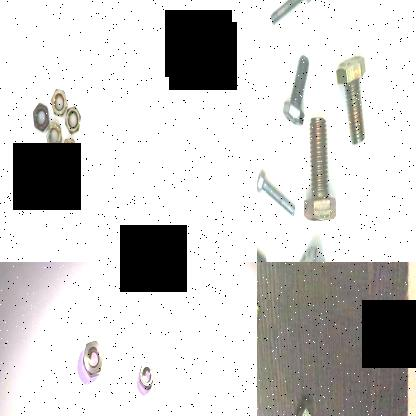Bolts: (300, 112, 342, 228), (334, 46, 378, 144), (257, 166, 299, 220), (282, 52, 310, 132), (268, 0, 313, 38), (291, 237, 347, 262), (257, 219, 275, 262)
NUTS: (80, 340, 107, 382), (137, 359, 157, 395), (31, 101, 50, 137), (291, 390, 317, 416), (51, 86, 69, 122), (45, 119, 63, 154), (63, 107, 82, 138), (60, 134, 78, 166)
